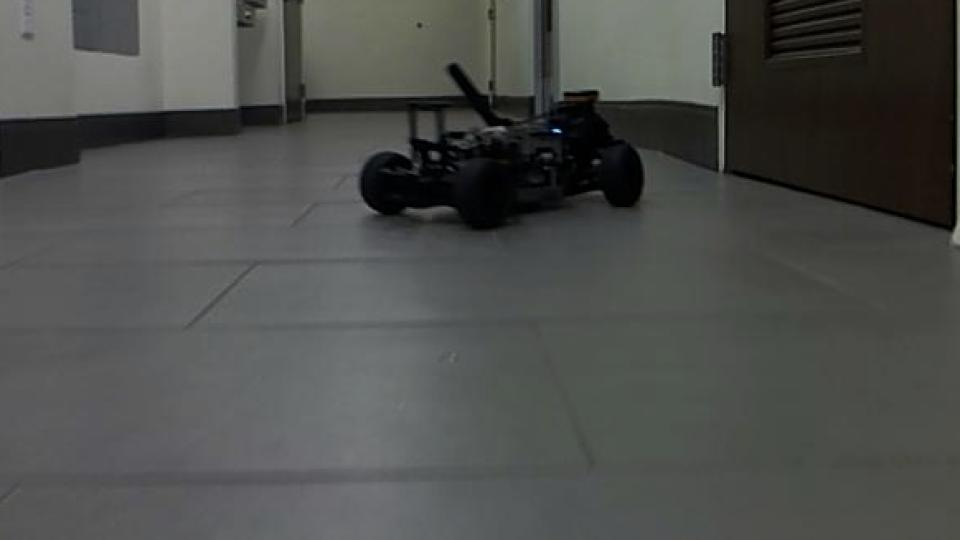car: (356, 58, 648, 232)
